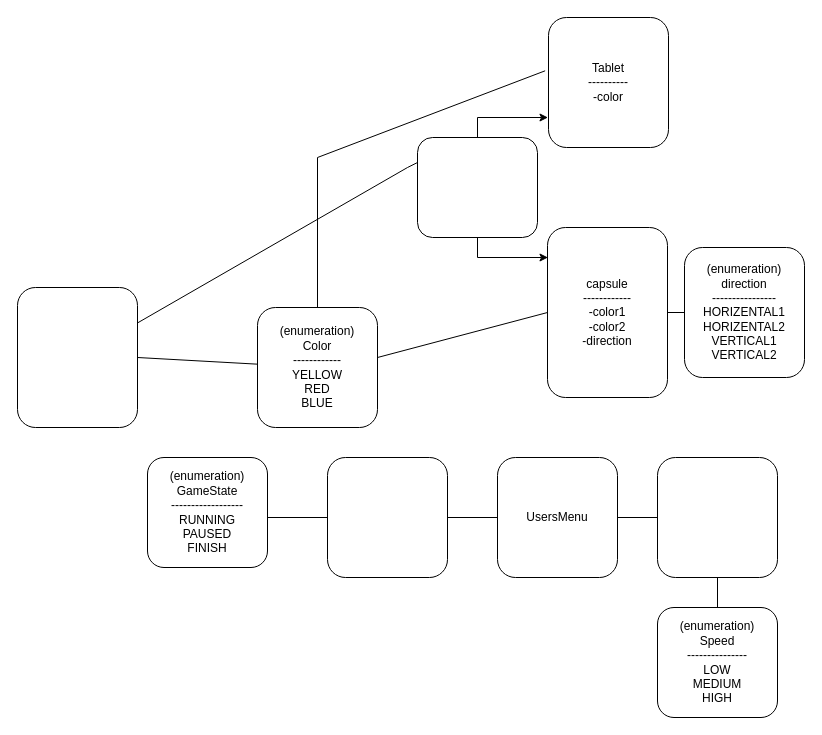
The diagram is 822 pixels wide and 735 high, and some of its shapes have lost their labels. The shapes that lost their labels are listed below. From the top down, each one's centre as x and y in pixels, then its label:
the point at 477,187: Medicine ------------ -x -y -vX -vy
the point at 77,357: Virus ---------------- -color -x -y
the point at 387,517: User ----------- -name -userName -highScore -score
the point at 717,517: MainMenu --------------- -level(1--->20) -speed
